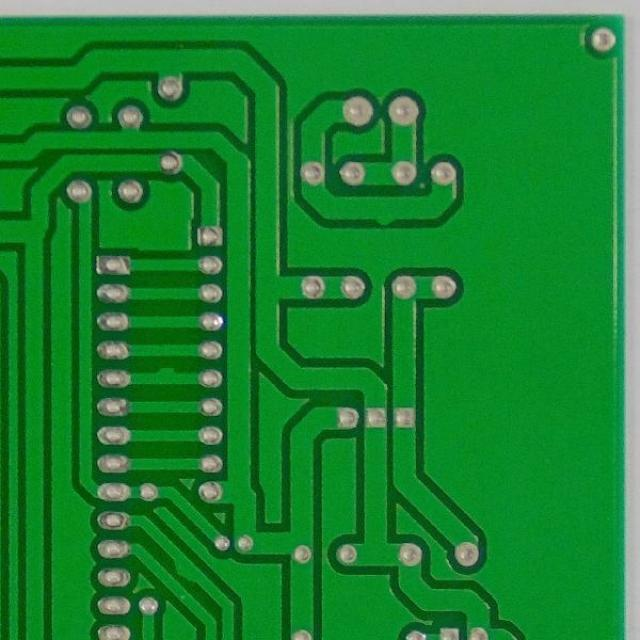Spur: (366, 190, 401, 228), (170, 552, 202, 584), (151, 363, 184, 390)
